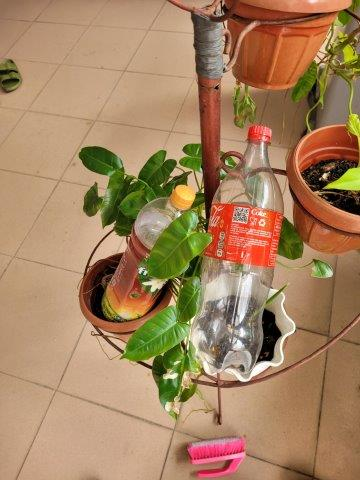botolplastik: (196, 127, 282, 381), (102, 187, 194, 323)
